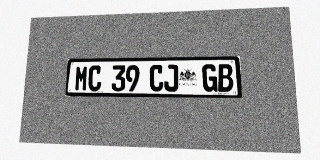3: (111, 65, 126, 91)
9: (125, 65, 140, 91)
B: (217, 64, 234, 92)
C: (149, 65, 163, 92), (88, 65, 102, 91)
G: (202, 64, 218, 92)
J: (164, 65, 178, 92)
M: (74, 66, 89, 91)
